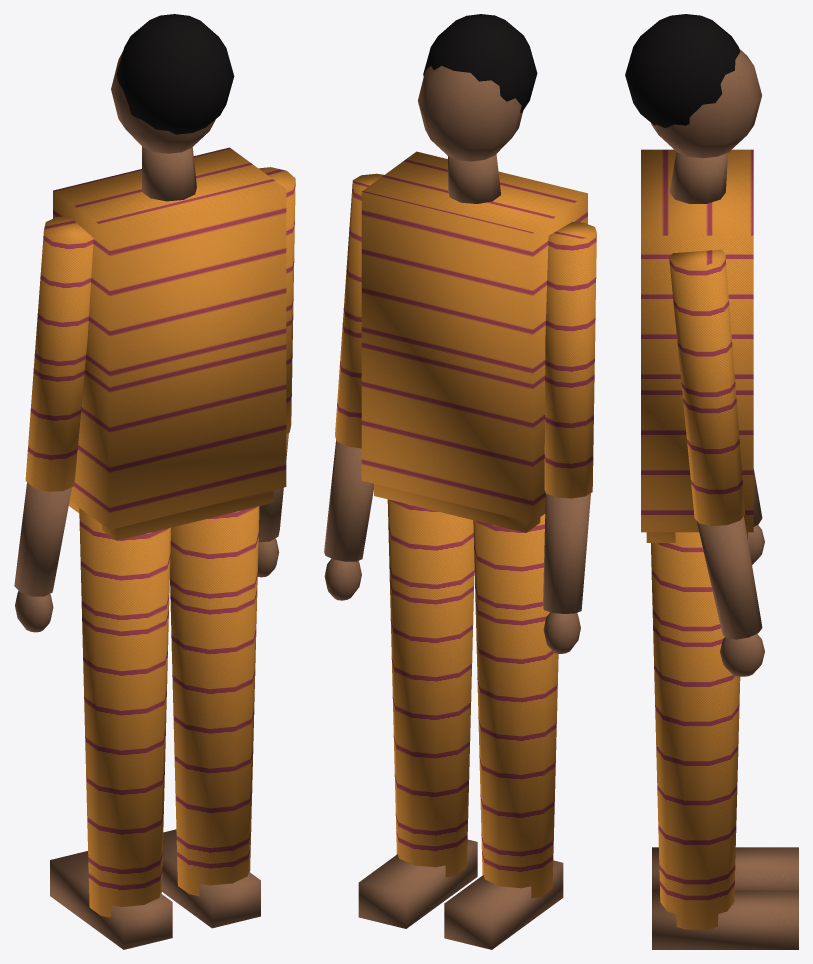
File: persona_pie_b.obj
3 views of the same model, side by side, from view 1: azimuth 30°, elevation 25°; view 2: azimuth 150°, elevation 25°; view 3: azimuth 270°, elevation 25° (orthographic). The views are drawn at different scales.
Visible parts, largest first — view 1: persona_pie_b; view 2: persona_pie_b; view 3: persona_pie_b.
Part boxes in pixels (<box>): persona_pie_b: <box>14,14,295,949</box>; persona_pie_b: <box>324,14,596,949</box>; persona_pie_b: <box>625,14,798,949</box>.
Size of the model in its own units: 0.5284 by 1.76 by 0.308.
Materials: 3 (3 with a texture image).
